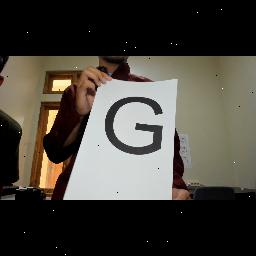g: (102, 92, 168, 164)
